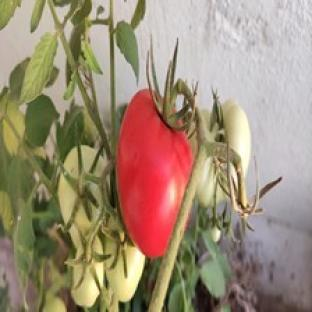Tomato: (117, 90, 193, 257), (105, 237, 144, 302), (58, 175, 91, 247), (222, 101, 250, 175), (72, 260, 104, 307), (3, 99, 25, 154), (42, 297, 66, 311), (209, 226, 221, 242)
